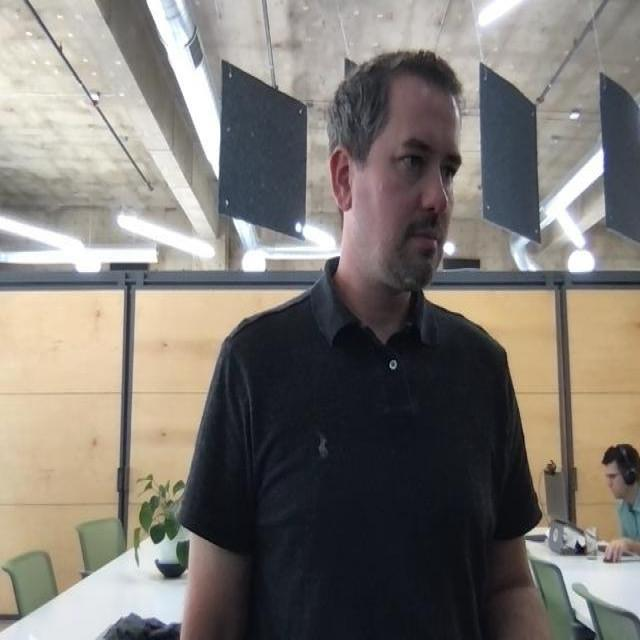face: (323, 47, 464, 297), (600, 440, 640, 499)
